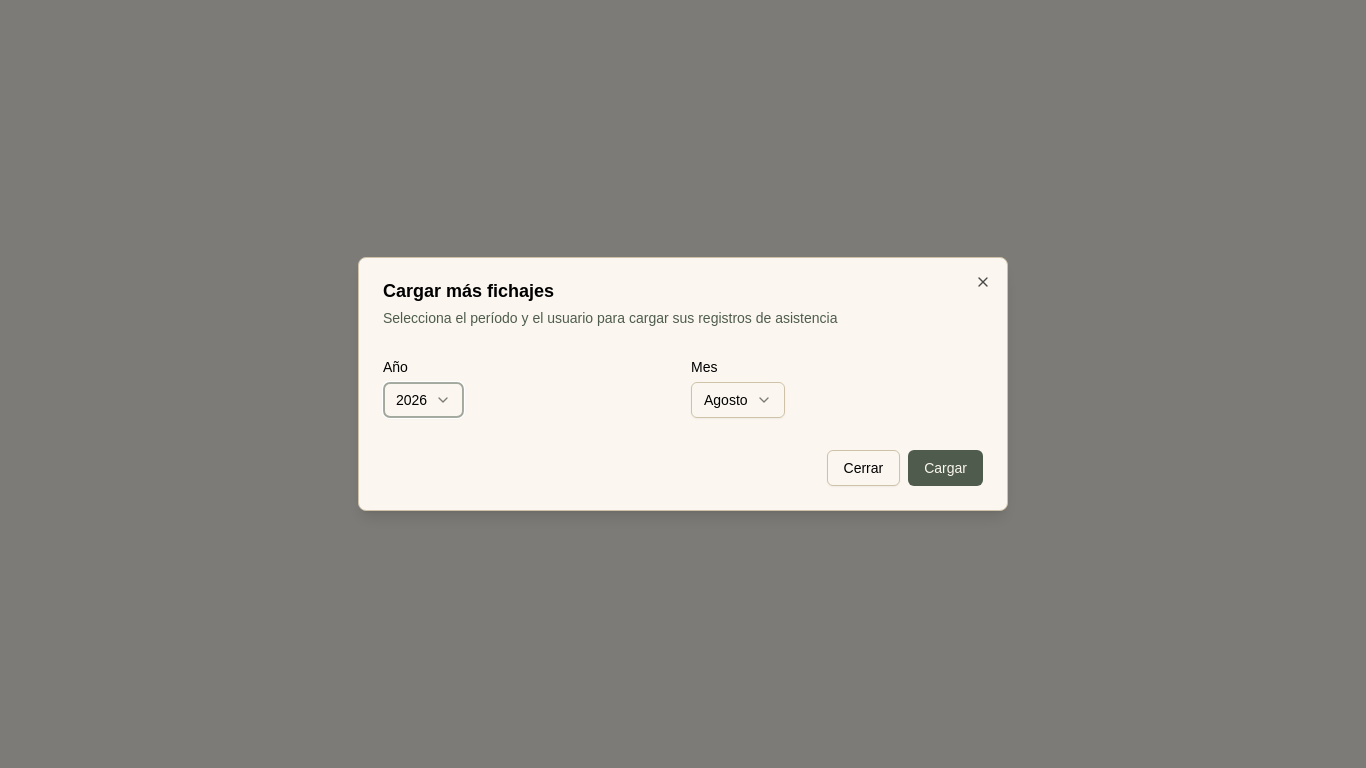
LoadMoreAttendanceModal › shows results after successful load
Click the button "Cargar" at (946, 468), box [908,450,983,486]
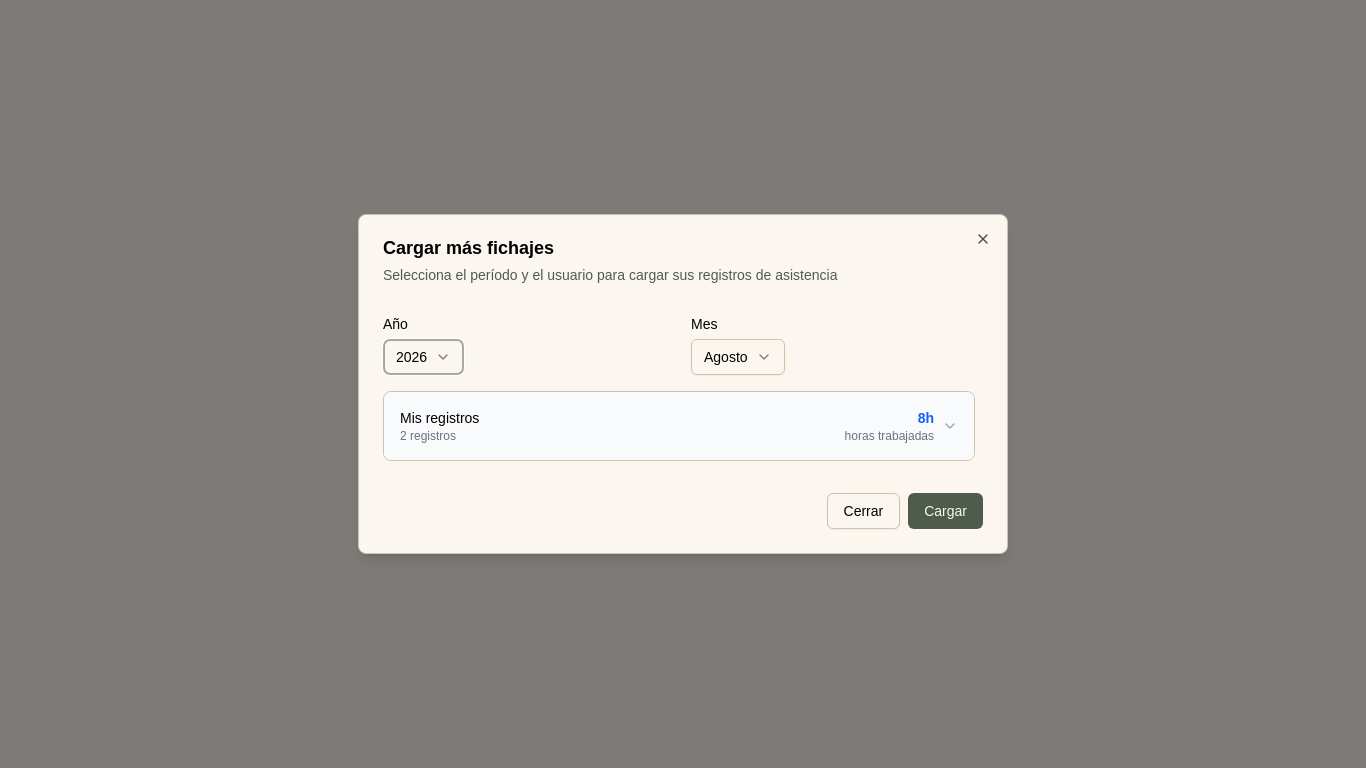
Expected: the text "Mis registros" is shown, [400,408,479,428]
Expected: the text "8h" is shown, [918,410,934,426]
